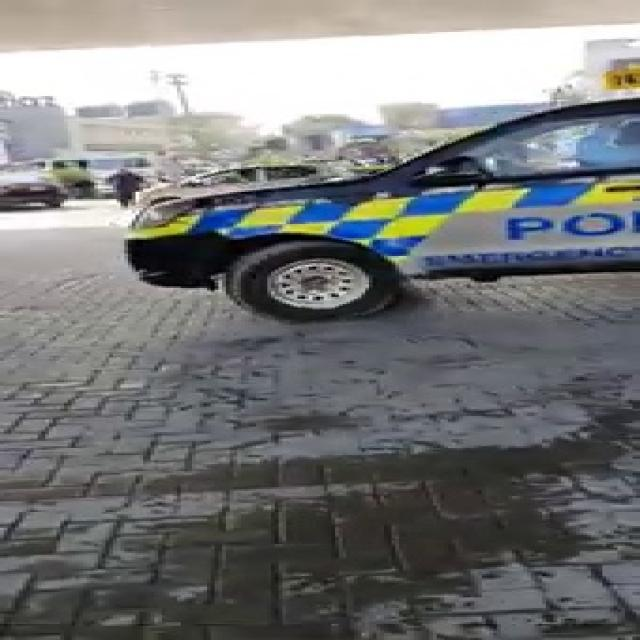police: (89, 46, 639, 285)
